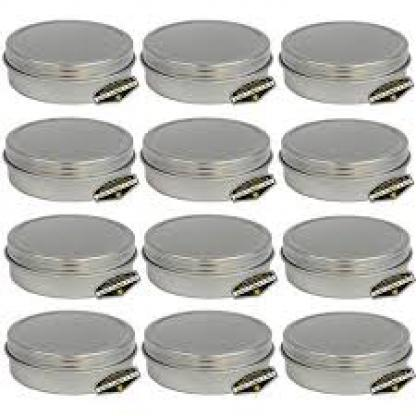Compsot: (2, 114, 135, 202), (2, 212, 135, 300), (279, 212, 411, 300), (0, 16, 135, 102), (5, 307, 137, 394), (137, 18, 272, 102), (139, 116, 272, 200), (279, 20, 411, 104), (139, 212, 270, 296), (279, 309, 411, 392), (139, 311, 272, 392), (279, 120, 411, 198)
